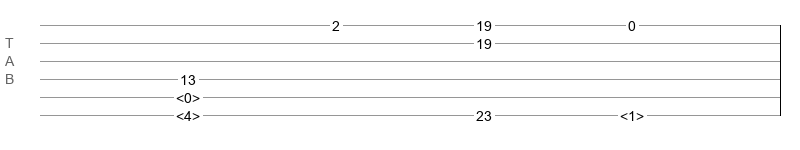0: (628, 18, 636, 28)
13: (180, 72, 196, 82)
19: (476, 36, 492, 46), (476, 18, 492, 28)
2: (332, 18, 340, 28)
23: (476, 108, 492, 118)
harmonic: (176, 90, 200, 100), (176, 108, 200, 118), (620, 108, 644, 118)
